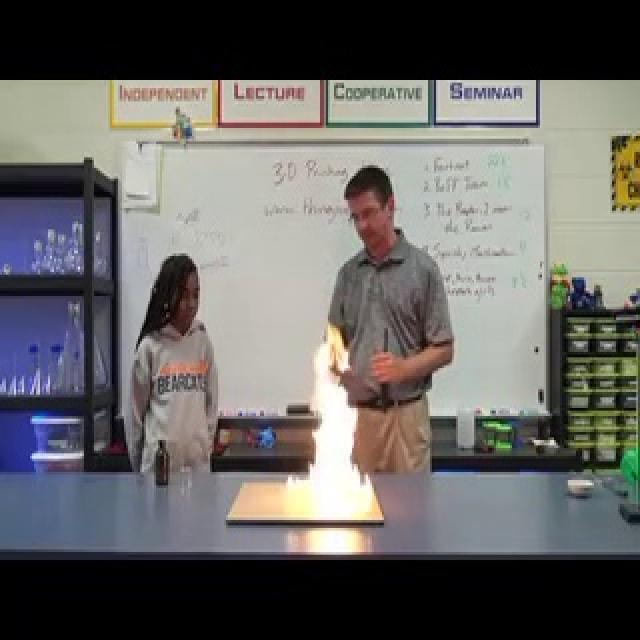fire: (287, 293, 363, 515)
